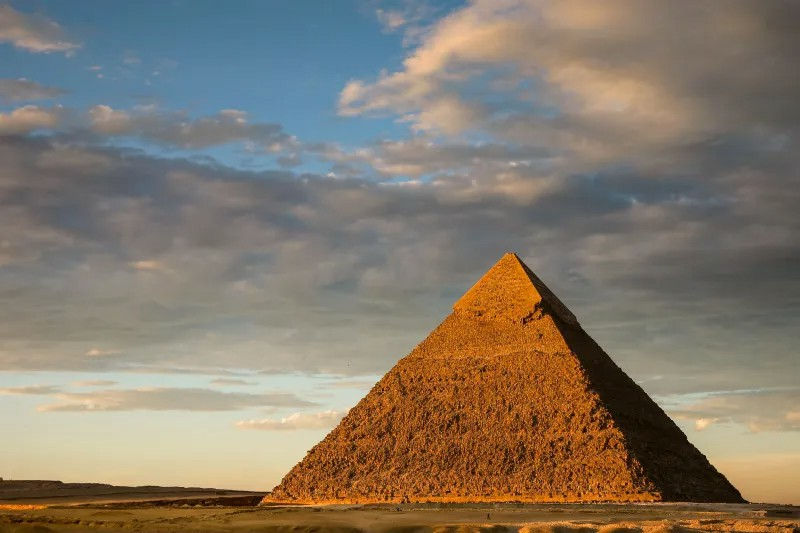Pyramid: (260, 251, 751, 509)
